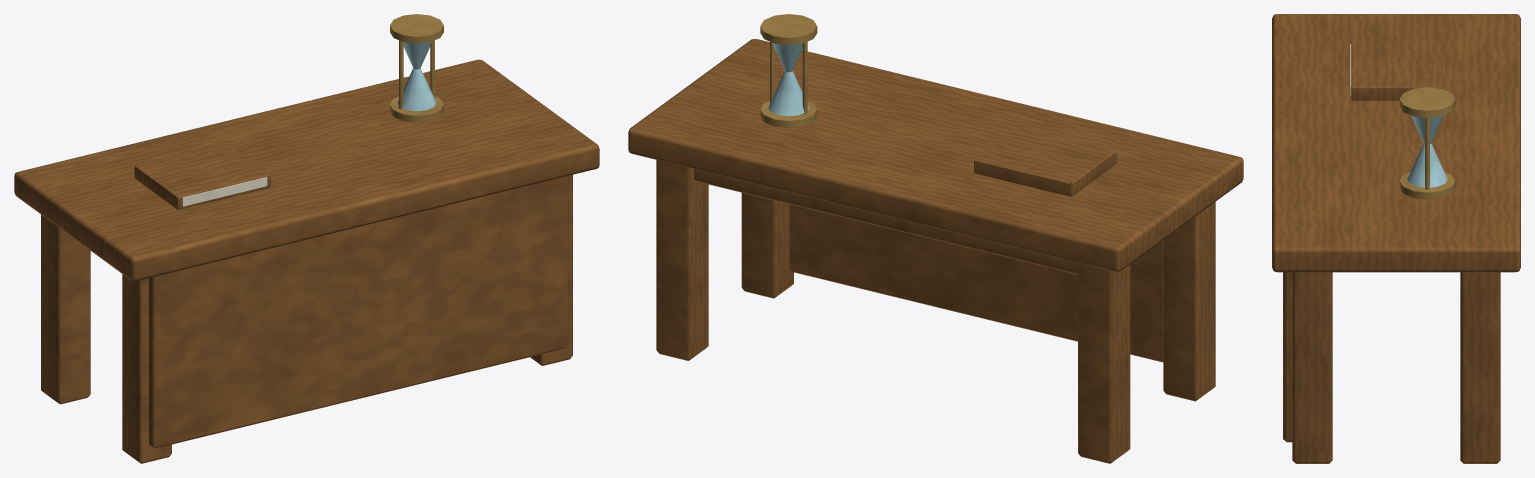
The model's file is Furn_TeacherDesk.fbx.
The picture shows the model from 3 angles, left to right: view 1: azimuth 30°, elevation 25°; view 2: azimuth 150°, elevation 25°; view 3: azimuth 270°, elevation 25°; orthographic projection. The views are drawn at different scales.
Visible parts, largest first — view 1: Furn_TeacherDesk_Mesh; view 2: Furn_TeacherDesk_Mesh; view 3: Furn_TeacherDesk_Mesh.
Boxes of the visible parts, left/top/right/bottom form: Furn_TeacherDesk_Mesh: left=14, top=14, right=599, bottom=463; Furn_TeacherDesk_Mesh: left=628, top=14, right=1243, bottom=463; Furn_TeacherDesk_Mesh: left=1272, top=14, right=1520, bottom=463.
Bounding box in the file's own units: 1.8 × 1.14 × 0.8.
Materials: 4 (4 with a texture image).
